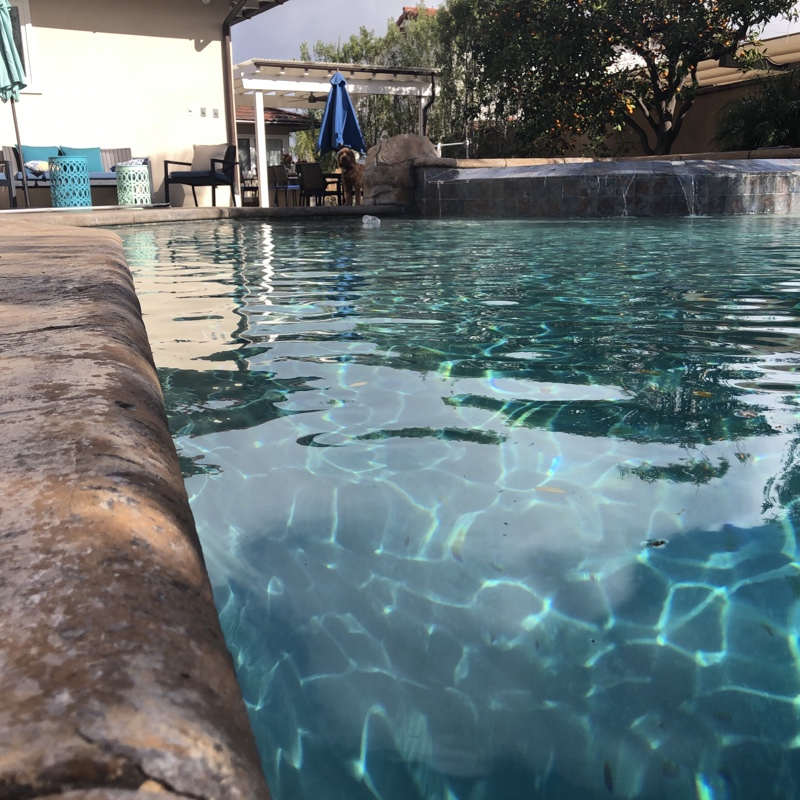Plastic Bottle: (358, 211, 381, 233)
